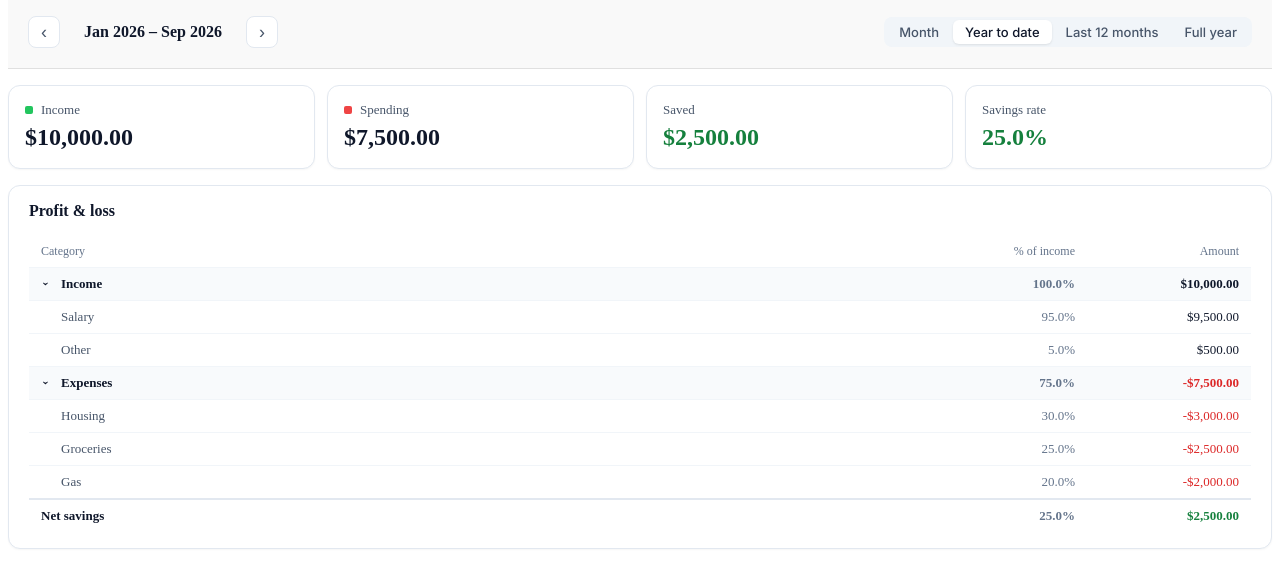
it: PeriodAnalyticsPanel › renders the cash flow P&L with collapsible sections
Check: the text "Saved" is shown, box [663,102,695,117]
Check: the text "25.0%" is shown, box [982,124,1048,150]
Click the button "› Expenses" at (77, 383), box [41,375,112,391]
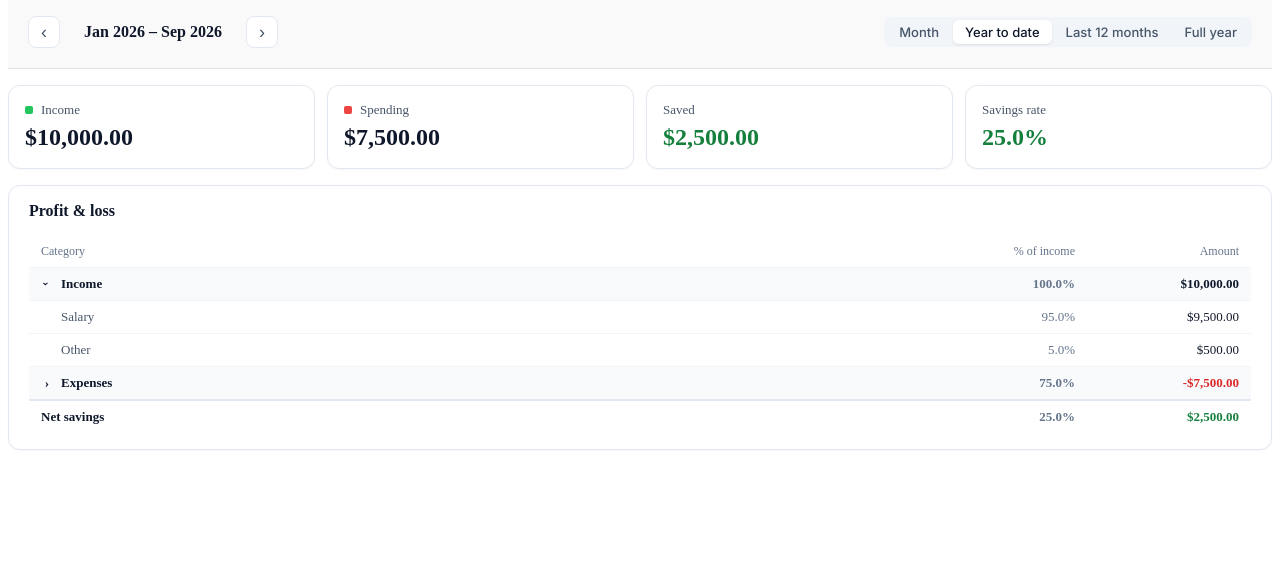
Check: the column heading "Salary" is shown, box [29,300,953,334]
Check: the button "› Expenses" is collapsed, box [41,375,112,391]
Check: the column heading "Housing" is gone
